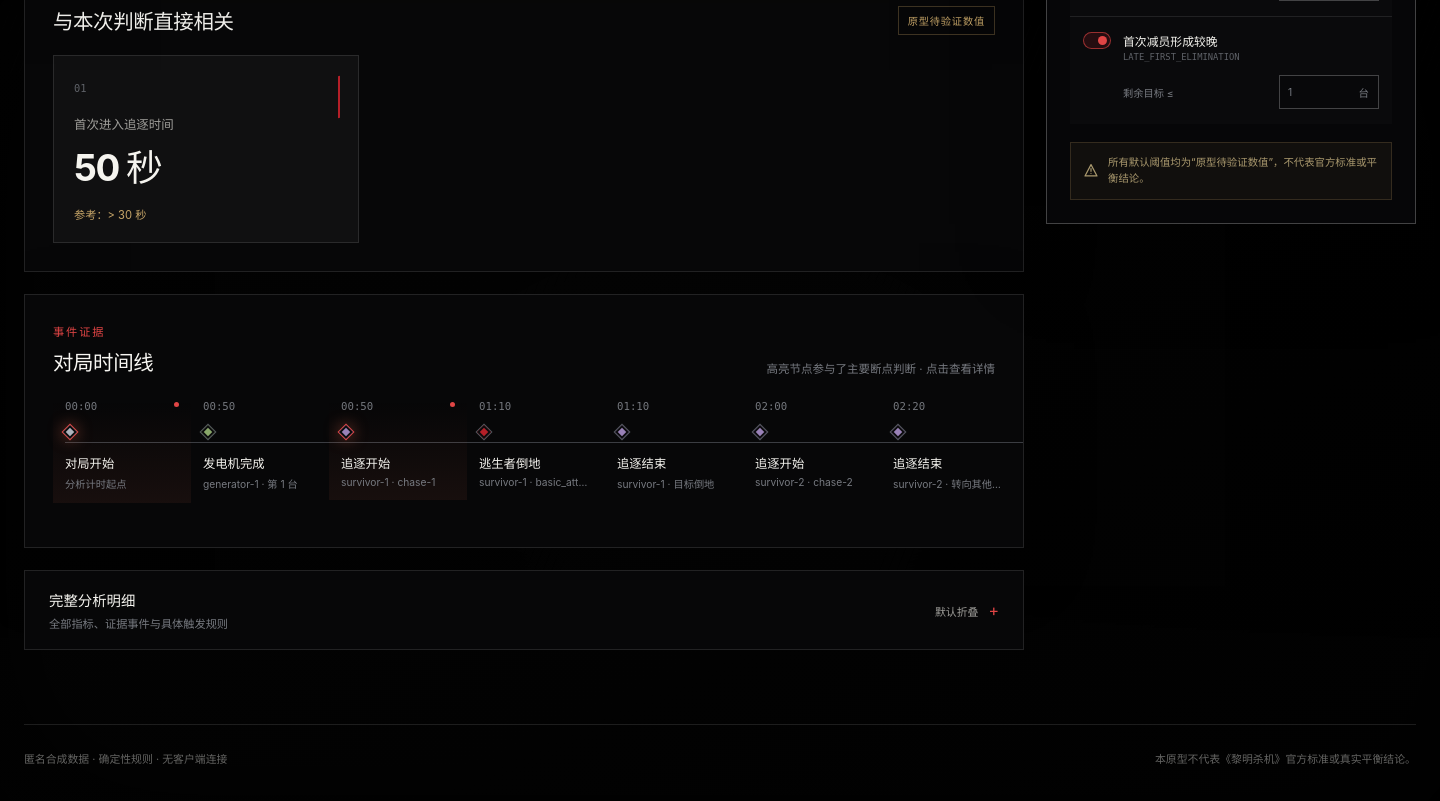
Test: App › 点击时间线节点展示事件详情
(page scrolled)
Click the button "00:50 追逐开始 survivor-1 · chase-1" at (398, 450), box [329,400,467,500]
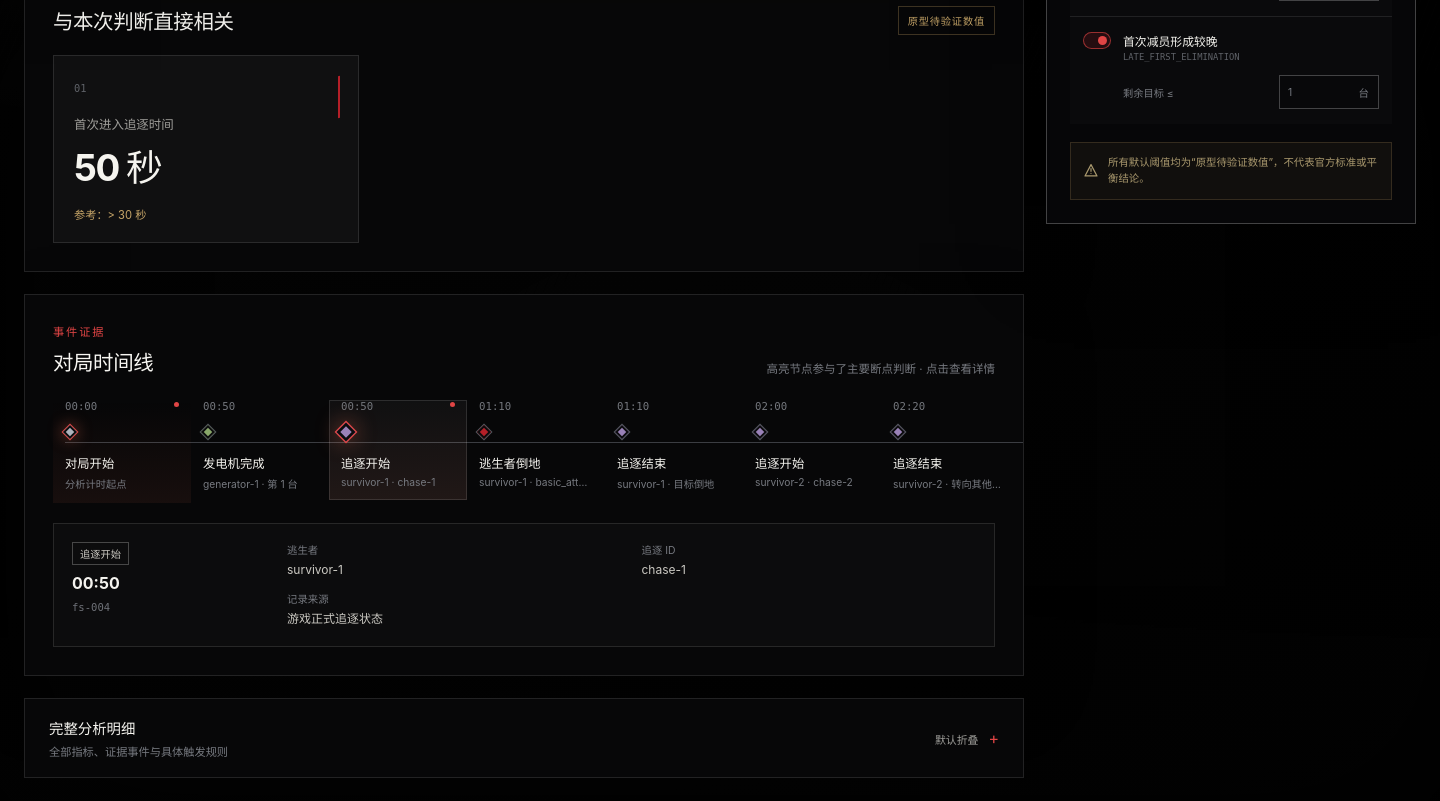
Expected: the text "fs-004" is shown, [72,601,110,613]
Expected: the text "追逐 ID" is shown, [642,544,676,557]
